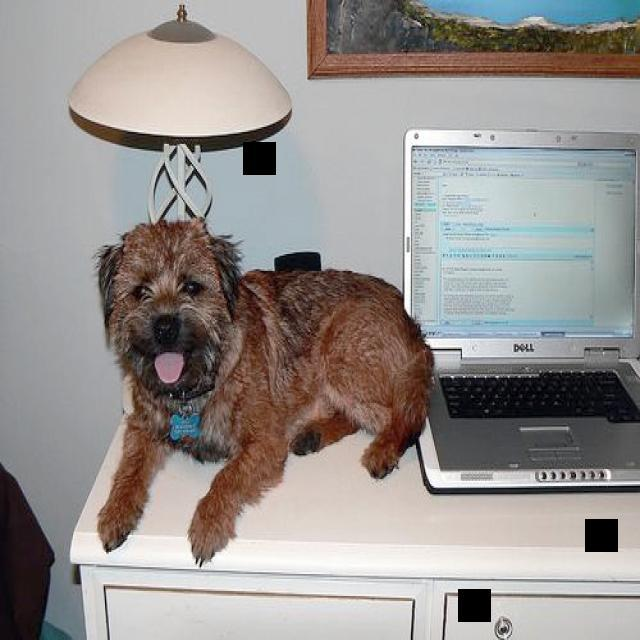adult_dog: (91, 218, 432, 564)
